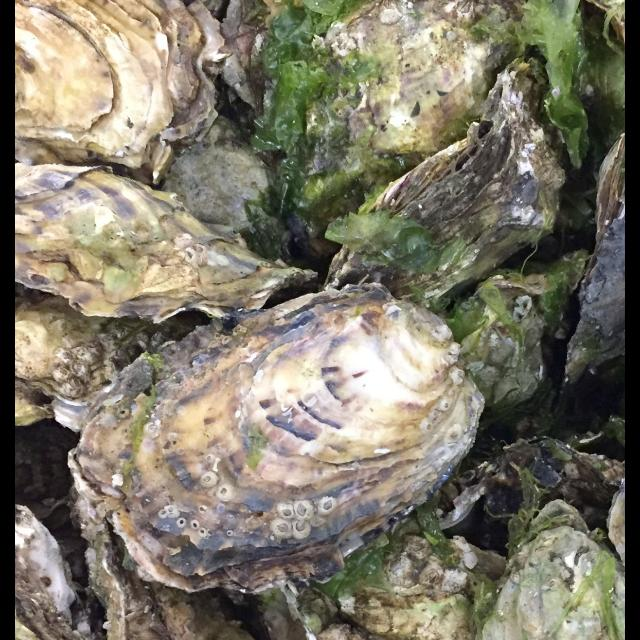Oyster-Closed: (67, 281, 483, 591), (262, 0, 532, 258), (329, 57, 565, 315), (15, 162, 320, 322), (15, 0, 223, 166), (15, 284, 221, 429), (68, 490, 250, 640), (450, 250, 588, 439), (317, 537, 510, 640), (483, 502, 626, 640), (171, 119, 292, 261), (207, 0, 368, 104), (486, 439, 625, 558), (562, 136, 626, 383), (15, 505, 83, 640), (606, 479, 626, 566)
